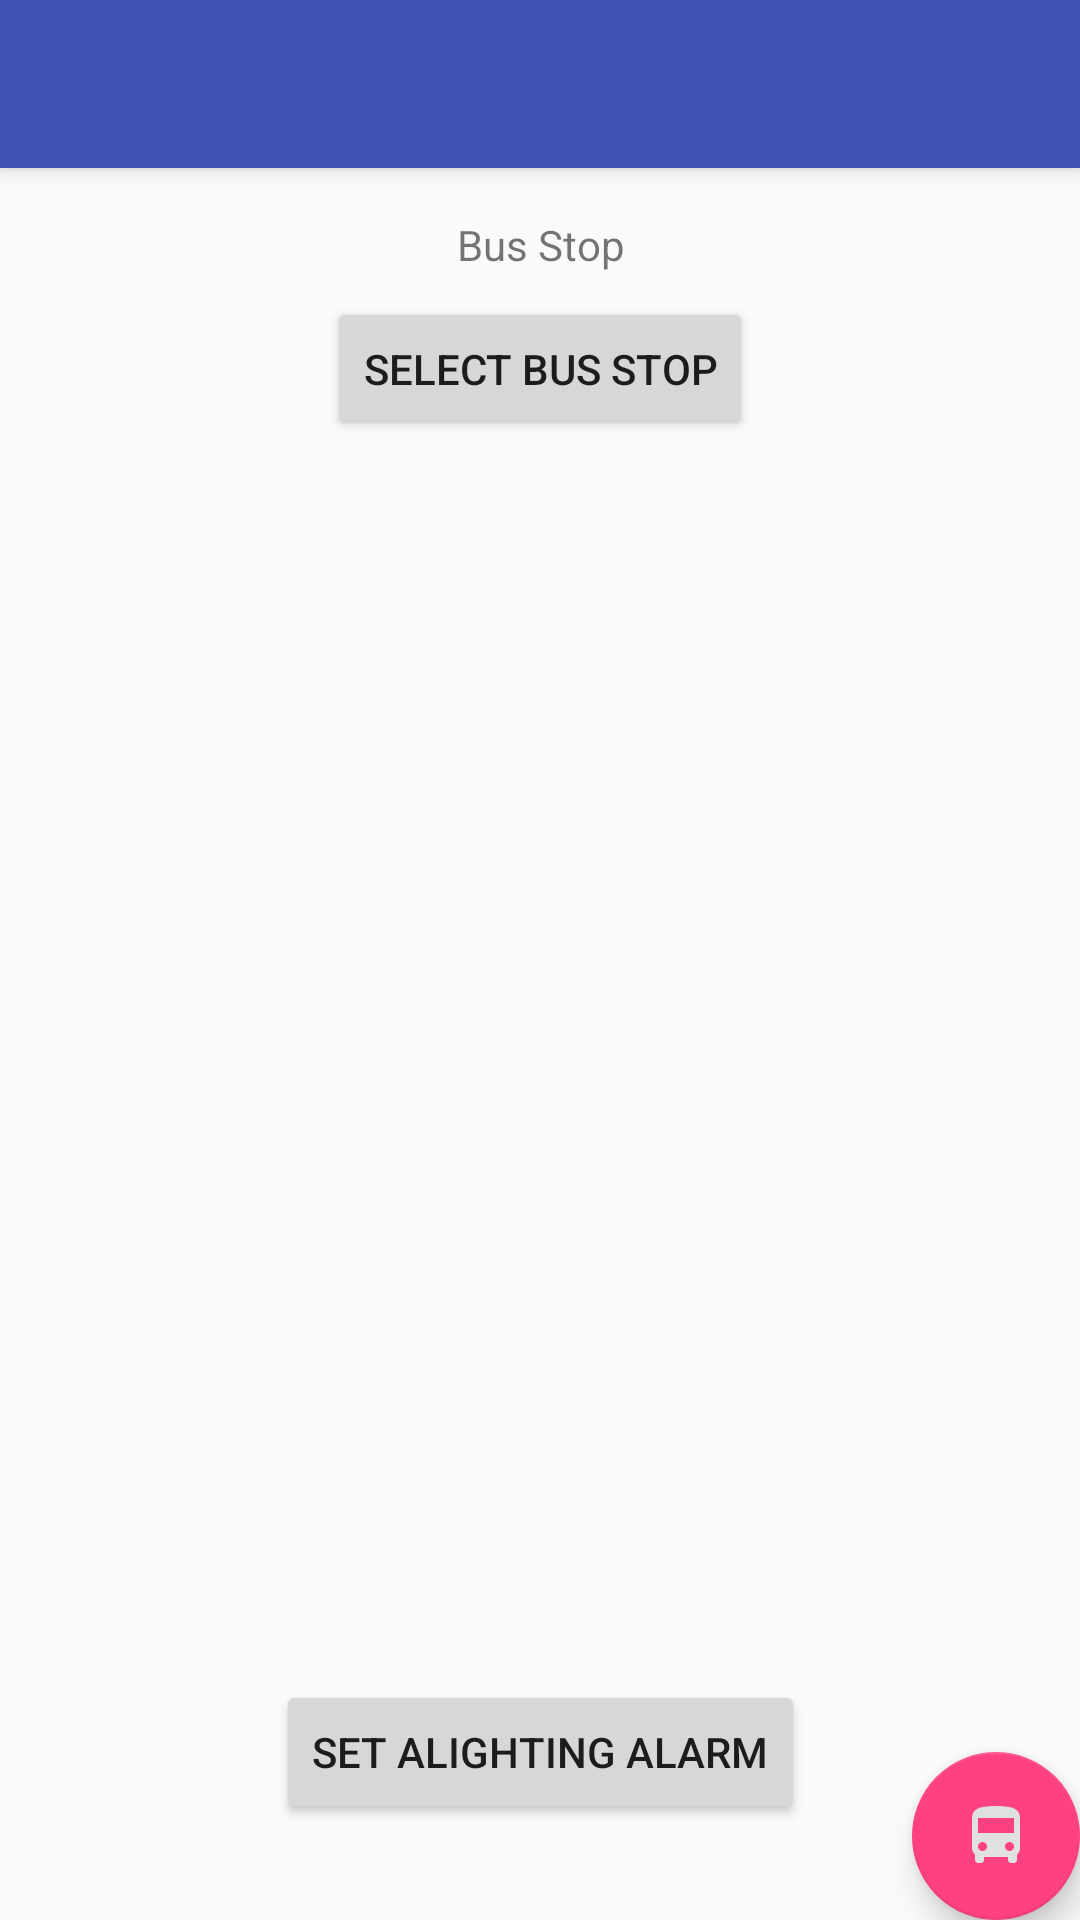

Point at icon controls on the screen. Image size 1080×1920, points as [x,y].
bus: [996,1836]
